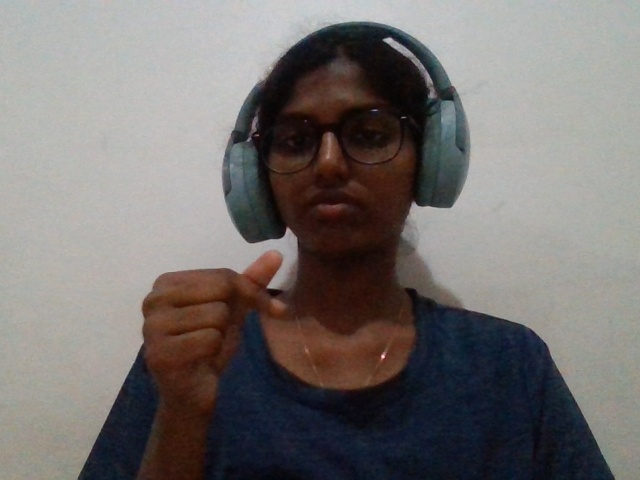G: (129, 236, 312, 478)
